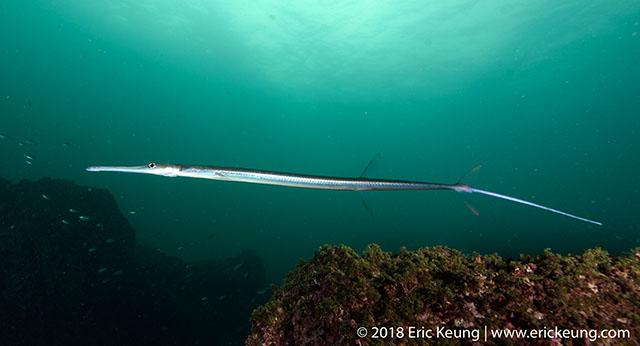Fistularia commersonii: (81, 127, 527, 219)
